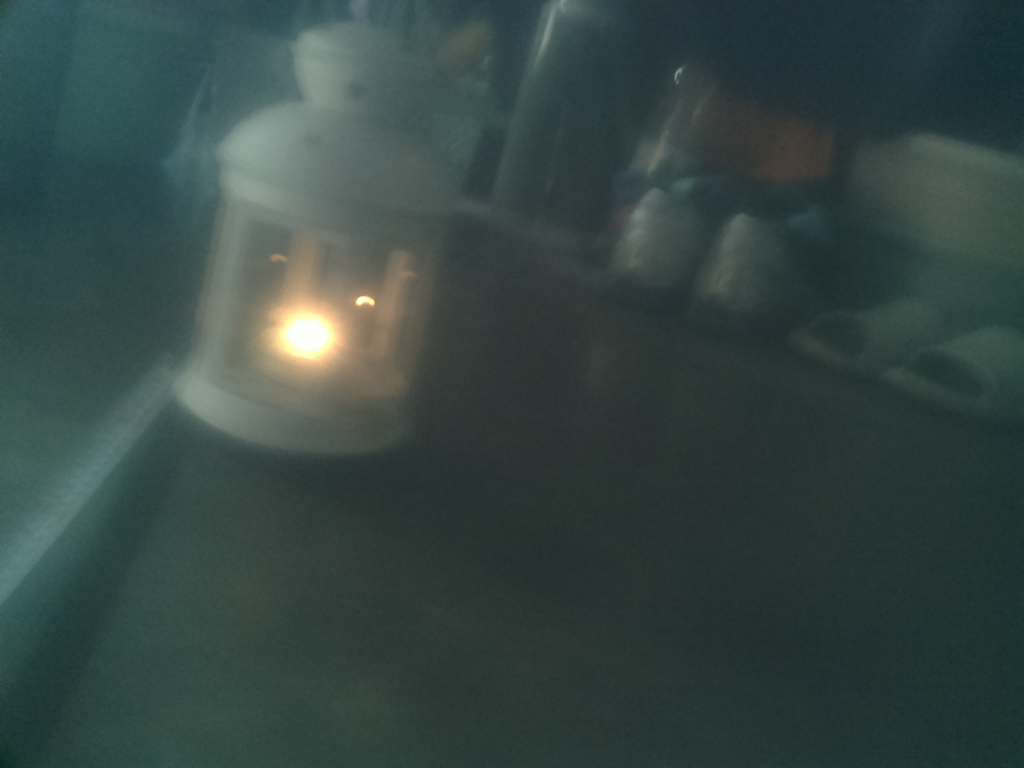fire: (247, 277, 390, 391)
